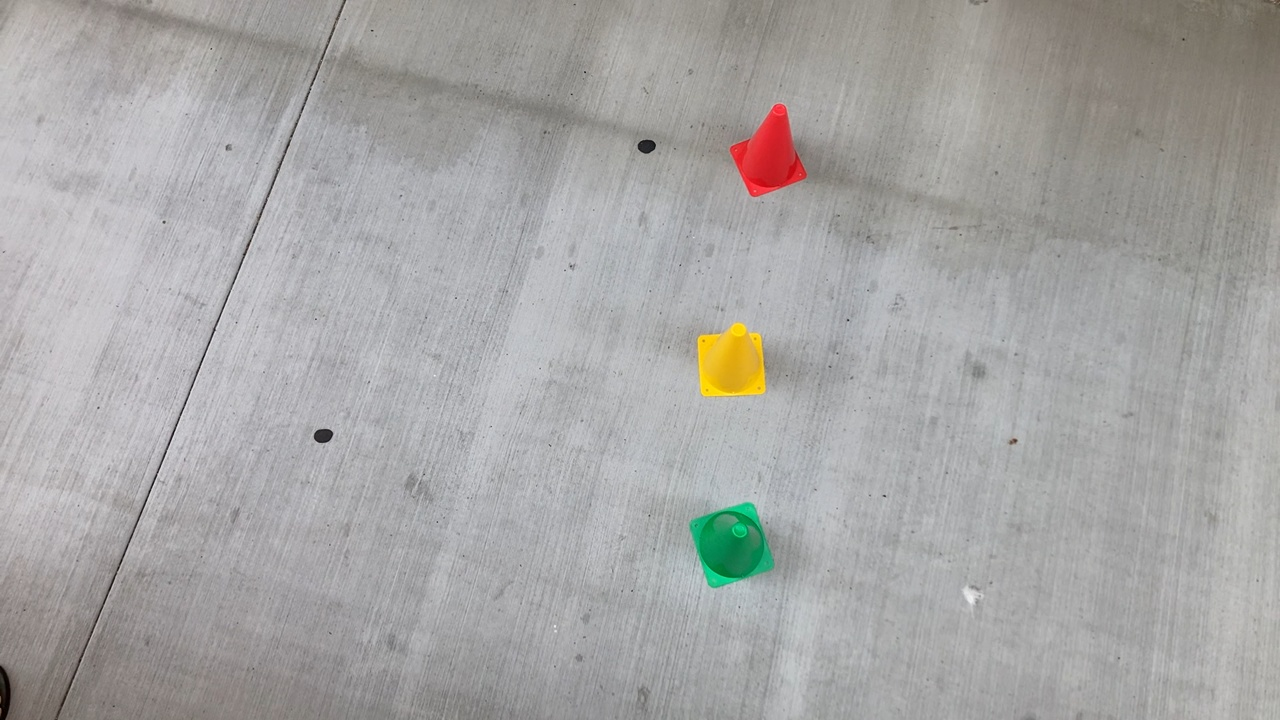green_cone: (684, 501, 779, 590)
red_cone: (728, 100, 810, 198)
yellow_cone: (695, 320, 768, 399)
